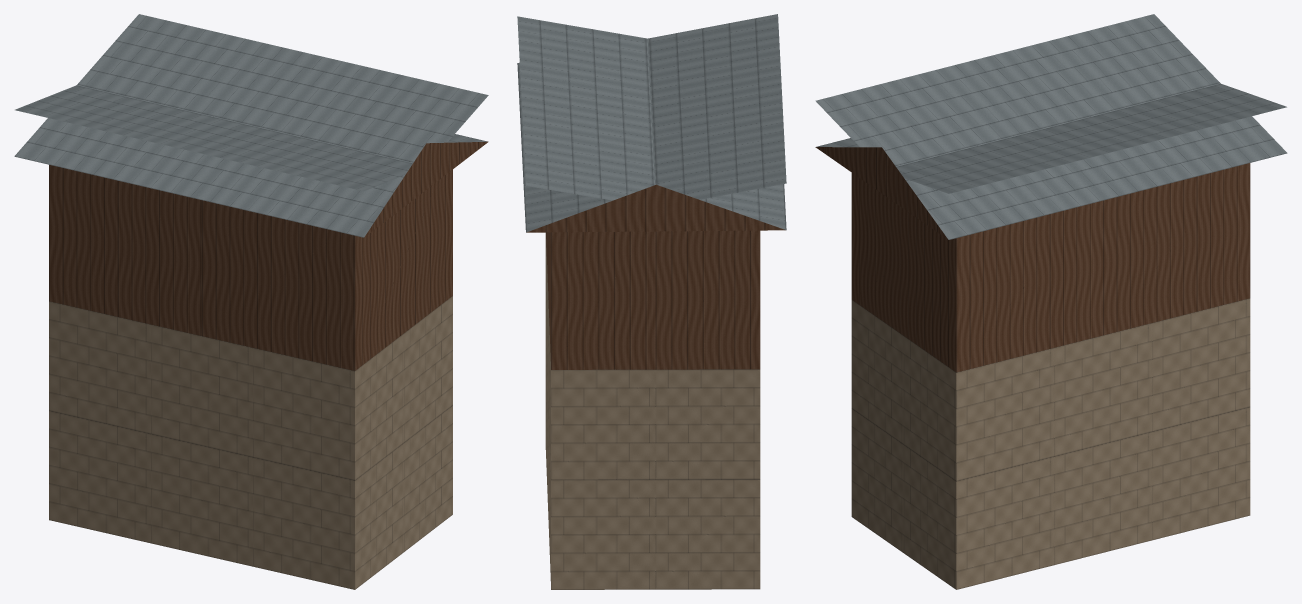
The model's file is bld_c7_33_493.gltf.
The picture shows the model from 3 angles, left to right: view 1: azimuth 30°, elevation 25°; view 2: azimuth 150°, elevation 25°; view 3: azimuth 270°, elevation 25°; orthographic projection.
Parts seen in each view (by area): view 1: bld_c7_33_493; view 2: bld_c7_33_493; view 3: bld_c7_33_493.
Part boxes in pixels (x1,y1,x2,y2): bld_c7_33_493: (14,14,488,589); bld_c7_33_493: (517,14,786,589); bld_c7_33_493: (815,14,1287,589).
Bounding box in the file's own units: 8.35 × 8.9 × 9.26.
4 materials, 4 textured.
